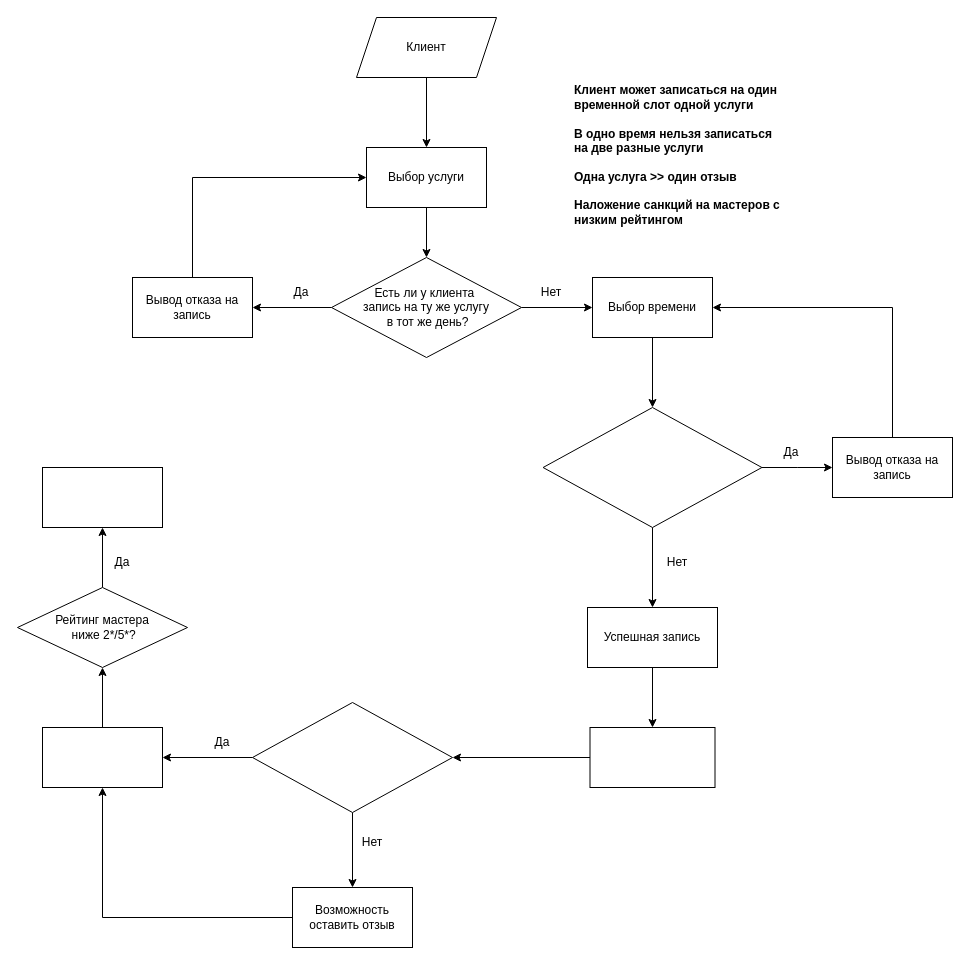
The diagram is 970 pixels wide and 965 high, and some of its shapes have lost their labels. Each missing label, with the centre of its shape:
"Есть ли у клиента запись на другую услугу в это же время?" goes at (x=652, y=467).
"Оказание услуги" goes at (x=652, y=757).
"Оставлял ли клиент отзыв к оказанной услуге?" goes at (x=352, y=757).
"Расчет рейтинга мастера" goes at (x=102, y=757).
"Штраф/увольнение мастера" goes at (x=102, y=497).
